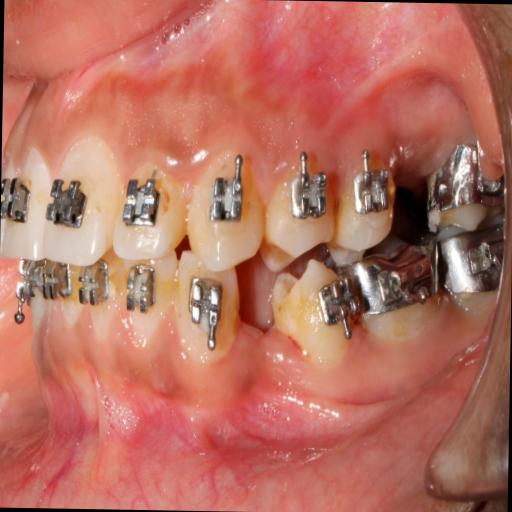correct_brace: (268, 158, 335, 262), (120, 174, 166, 234), (45, 174, 86, 236), (208, 175, 248, 223)
incorrect_brace: (117, 158, 183, 266), (286, 168, 329, 223)
